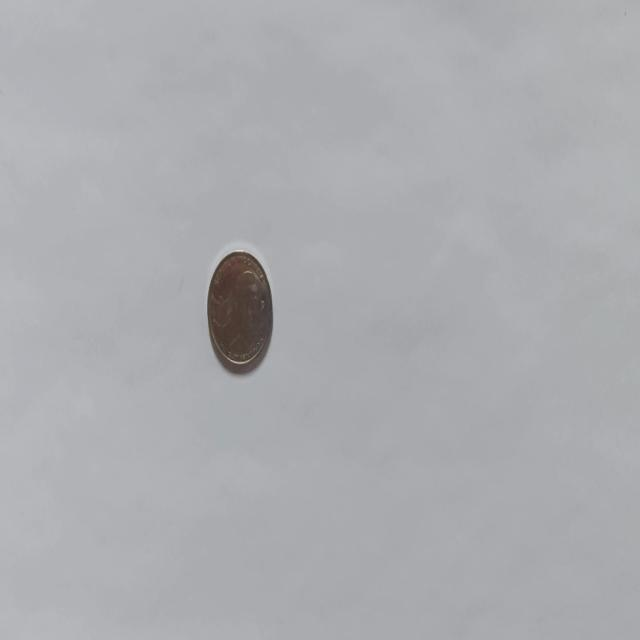seribu rupiah koin: (206, 247, 274, 373)
